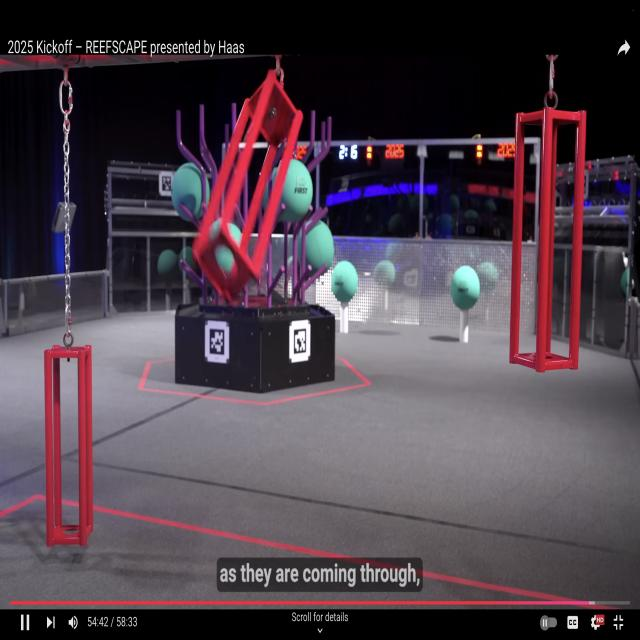algae: (202, 220, 247, 286), (296, 210, 335, 277), (170, 158, 210, 220), (277, 157, 316, 220), (449, 263, 481, 308), (332, 260, 359, 305)
coral: (458, 303, 474, 346), (338, 297, 352, 339)
